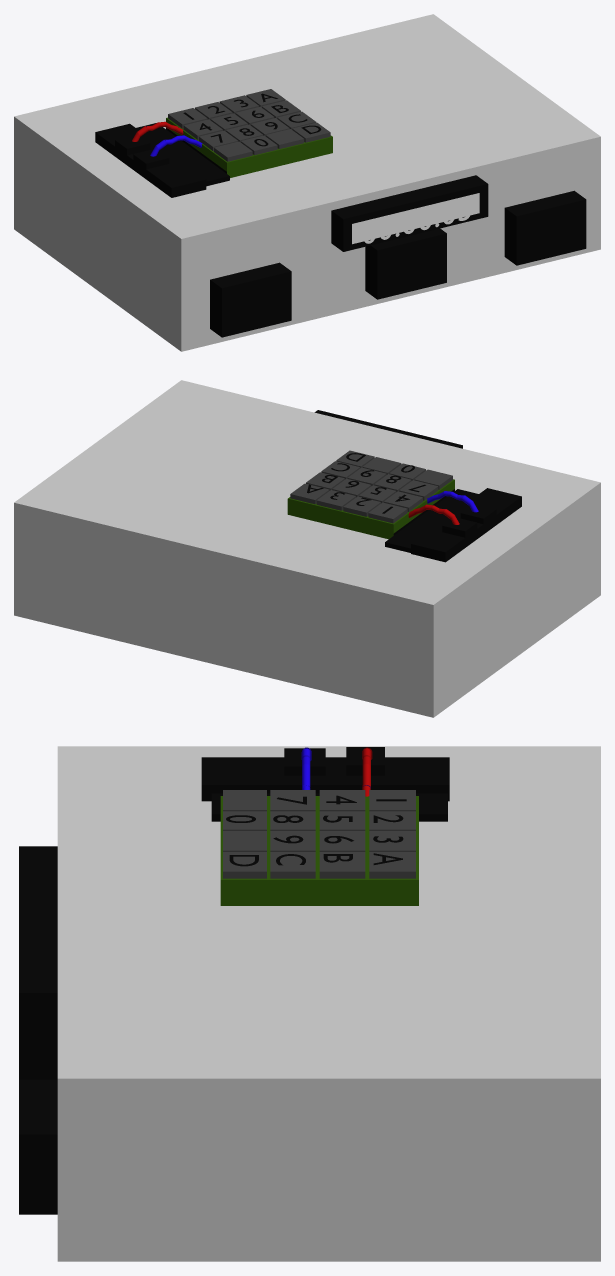
The model's file is Bomb.fbx.
3 renders of one model, top to bottom at view 1: azimuth 30°, elevation 25°; view 2: azimuth 150°, elevation 25°; view 3: azimuth 270°, elevation 25°, orthographic. The views are drawn at different scales.
Parts seen in each view (by area): view 1: Cube.002, Text.002; view 2: Cube.002; view 3: Cube.002.
Boxes of the visible parts, x1,y1,x2,y2 form: Cube.002: [14, 14, 600, 351]; Text.002: [362, 195, 471, 243]; Cube.002: [14, 380, 600, 717]; Cube.002: [19, 746, 600, 1261].
Size of the model in its own units: 358 by 116 by 267.
